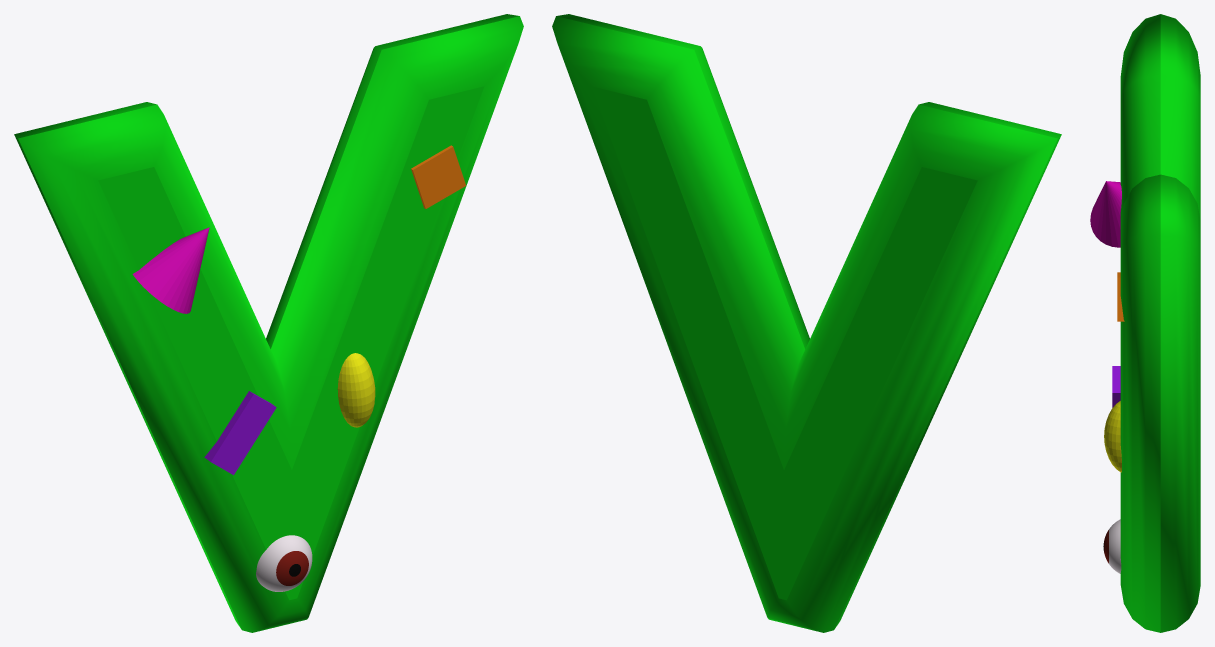
3 renders of one model, left to right at view 1: azimuth 30°, elevation 25°; view 2: azimuth 150°, elevation 25°; view 3: azimuth 270°, elevation 25°, orthographic. The views are drawn at different scales.
Parts seen in each view (by area): view 1: Text, Cone, Cube.001, Sphere, Sphere.002, Cube; view 2: Text; view 3: Text, Cone, Sphere.002, Sphere, Cube.001, Cube.
Boxes of the visible parts, box(x1,y1,x2,y2) form: Text: box(14, 14, 523, 632); Cone: box(132, 227, 209, 313); Cube.001: box(204, 391, 276, 475); Sphere: box(256, 535, 312, 591); Sphere.002: box(337, 353, 375, 427); Cube: box(411, 145, 466, 208); Text: box(552, 14, 1061, 632); Text: box(1120, 14, 1200, 632); Cone: box(1090, 181, 1121, 247); Sphere.002: box(1104, 401, 1121, 472); Sphere: box(1103, 519, 1121, 573); Cube.001: box(1112, 366, 1120, 407); Cube: box(1117, 272, 1124, 321).
Size of the model in its own units: 76.11 by 79.2 by 16.03.
